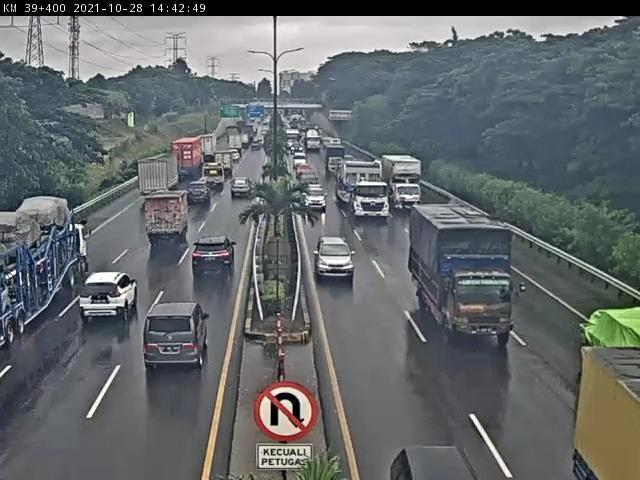car: (140, 302, 210, 370), (82, 269, 141, 322), (316, 237, 358, 281), (192, 236, 238, 275), (187, 182, 212, 206), (230, 176, 254, 200), (306, 188, 329, 211), (303, 182, 325, 205), (299, 171, 321, 191)
truck: (408, 205, 519, 347), (1, 194, 101, 348), (342, 166, 397, 221), (144, 191, 192, 251), (386, 158, 426, 212), (138, 152, 184, 195), (327, 146, 349, 178), (199, 162, 227, 186)
